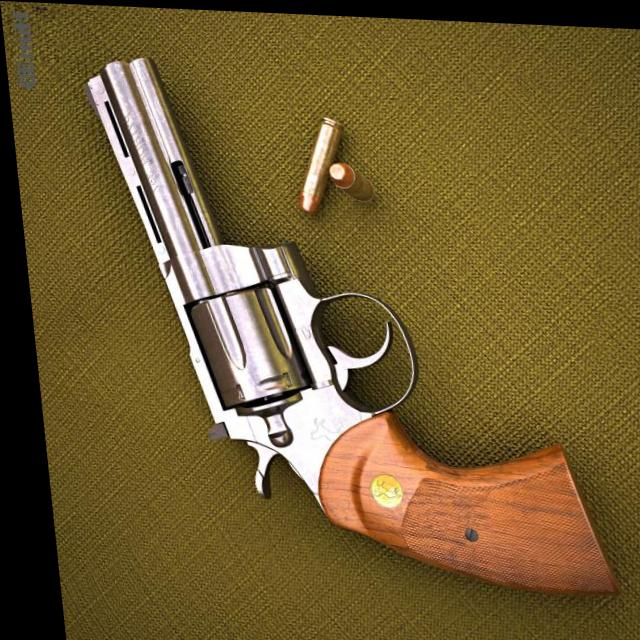handgun: (71, 53, 612, 597)
